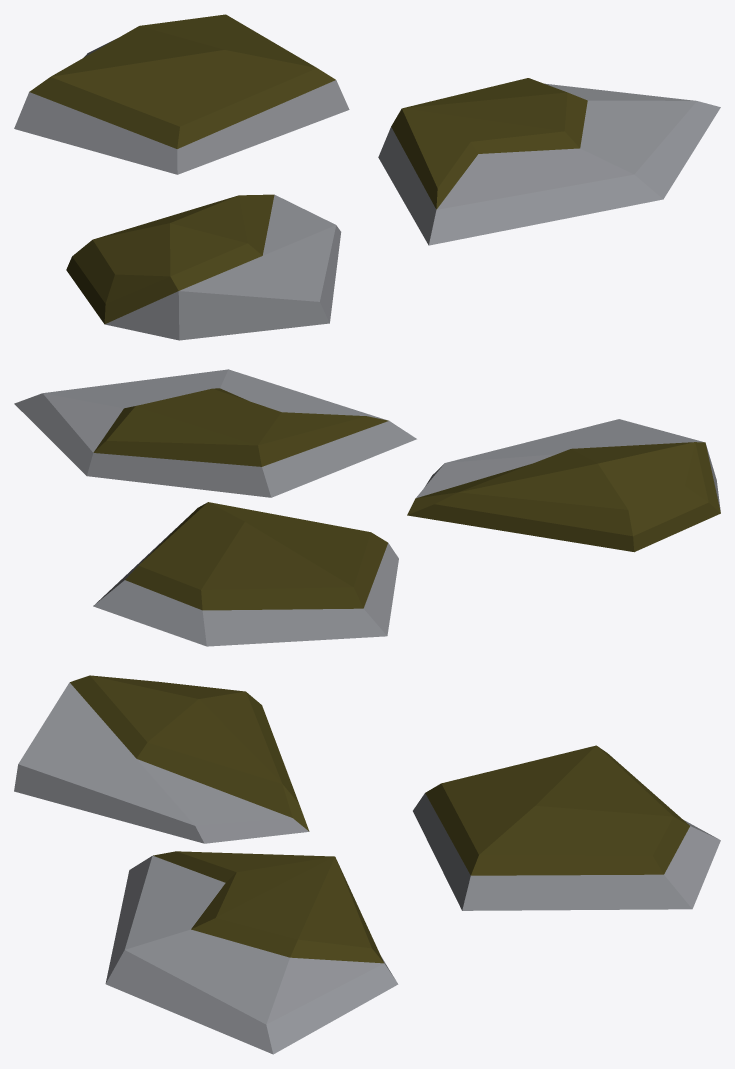
Rendered from stone_with_moss_4.fbx.
The picture shows the model from 3 angles, top to bottom: view 1: azimuth 30°, elevation 25°; view 2: azimuth 150°, elevation 25°; view 3: azimuth 270°, elevation 25°; orthographic projection. The views are drawn at different scales.
Visible parts, largest first — view 1: stone_with_moss_4; view 2: stone_with_moss_4; view 3: stone_with_moss_4.
Boxes of the visible parts, bbox=[...] form: stone_with_moss_4: bbox=[14, 14, 720, 340]; stone_with_moss_4: bbox=[14, 369, 720, 646]; stone_with_moss_4: bbox=[14, 675, 720, 1054].
Bounding box in the file's own units: 181 × 14.26 × 155.
